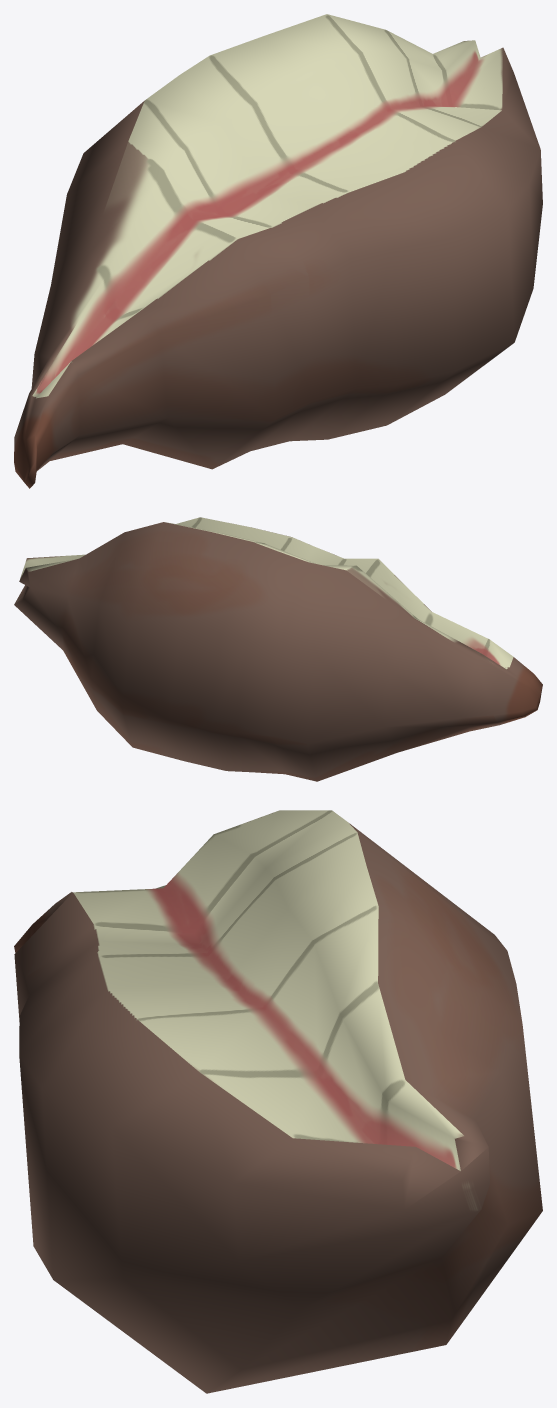
File: Cola Singe.fbx
3 renders of one model, top to bottom at view 1: azimuth 30°, elevation 25°; view 2: azimuth 150°, elevation 25°; view 3: azimuth 270°, elevation 25°, orthographic. The views are drawn at different scales.
Visible parts, largest first — view 1: Cola Singe; view 2: Cola Singe; view 3: Cola Singe.
Boxes of the visible parts, x1=… form: Cola Singe: x1=14, y1=14, x2=542, y2=488; Cola Singe: x1=14, y1=517, x2=542, y2=781; Cola Singe: x1=14, y1=810, x2=542, y2=1393.
Bounding box in the file's own units: 295 × 159 × 164.
